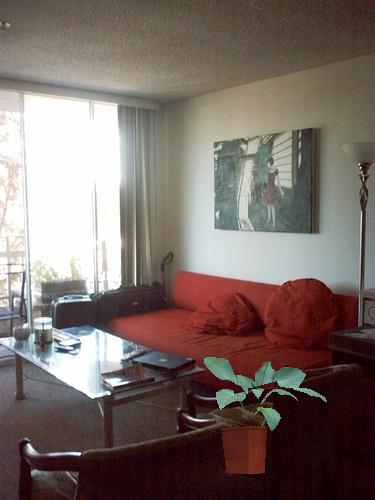tampered: (205, 358, 327, 474)
